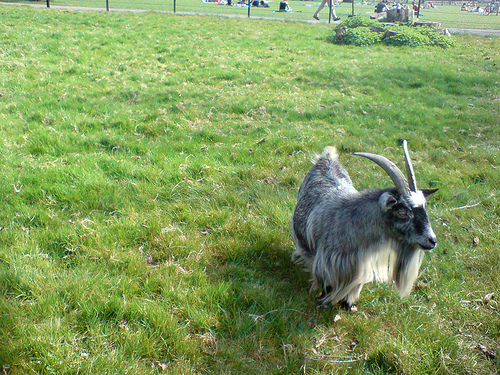goat: (289, 140, 439, 313)
